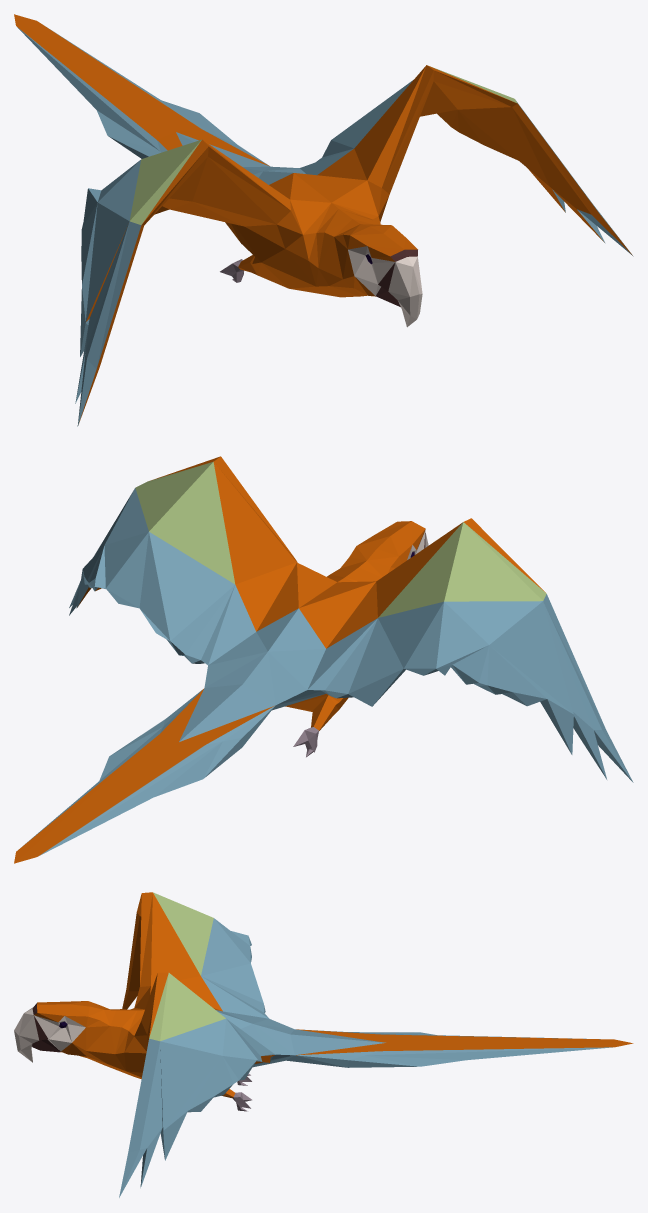
File: Parrot.glb
The picture shows the model from 3 angles, top to bottom: view 1: azimuth 30°, elevation 25°; view 2: azimuth 150°, elevation 25°; view 3: azimuth 270°, elevation 25°; orthographic projection. The views are drawn at different scales.
Size of the model in its own units: 79.5 by 33.7 by 100.
